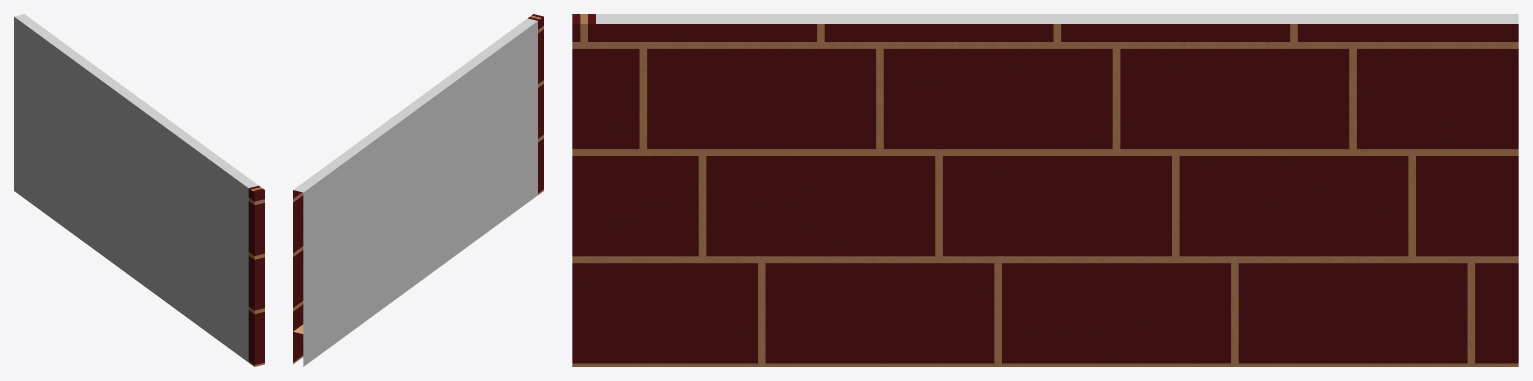
The model's file is test-wall.fbx.
3 renders of one model, left to right at view 1: azimuth 30°, elevation 25°; view 2: azimuth 150°, elevation 25°; view 3: azimuth 270°, elevation 25°, orthographic. The views are drawn at different scales.
Visible parts, largest first — view 1: Wall, Door Hole, Wall Joiner; view 2: Wall, Door Hole, Wall Joiner; view 3: Wall, Door Hole, Wall Joiner.
Boxes of the visible parts, x1,y1,x2,y2 form: Wall: [14, 14, 258, 362]; Door Hole: [92, 126, 170, 304]; Wall Joiner: [248, 185, 264, 366]; Wall: [293, 18, 537, 366]; Door Hole: [381, 131, 459, 309]; Wall Joiner: [528, 14, 543, 194]; Wall: [596, 14, 1518, 366]; Door Hole: [903, 127, 1210, 366]; Wall Joiner: [572, 14, 595, 366].
Size of the model in its own units: 25 by 400 by 1000.
